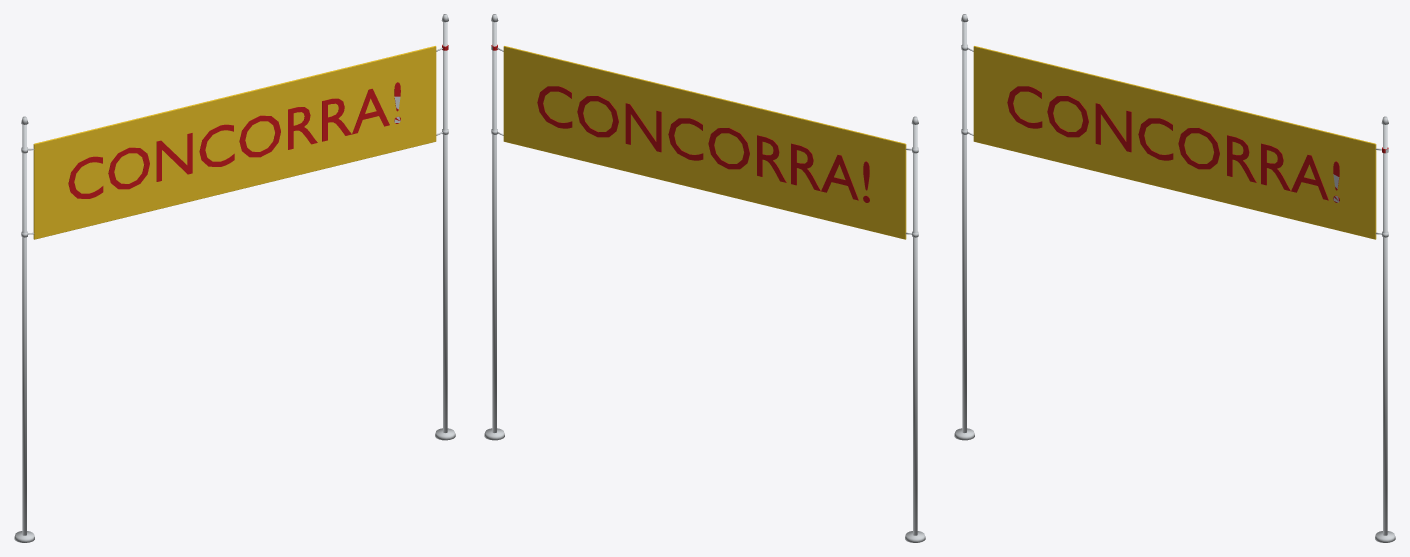
The model's file is FaixaConcorra.fbx.
3 renders of one model, left to right at view 1: azimuth 30°, elevation 25°; view 2: azimuth 150°, elevation 25°; view 3: azimuth 330°, elevation 25°, orthographic.
Visible parts, largest first — view 1: FaixaConcorra; view 2: FaixaConcorra; view 3: FaixaConcorra.
Boxes of the visible parts, x1=… form: FaixaConcorra: x1=14, y1=14, x2=455, y2=542; FaixaConcorra: x1=484, y1=14, x2=925, y2=542; FaixaConcorra: x1=954, y1=14, x2=1395, y2=542.
Bounding box in the file's own units: 2.4 × 2.2 × 0.1.
